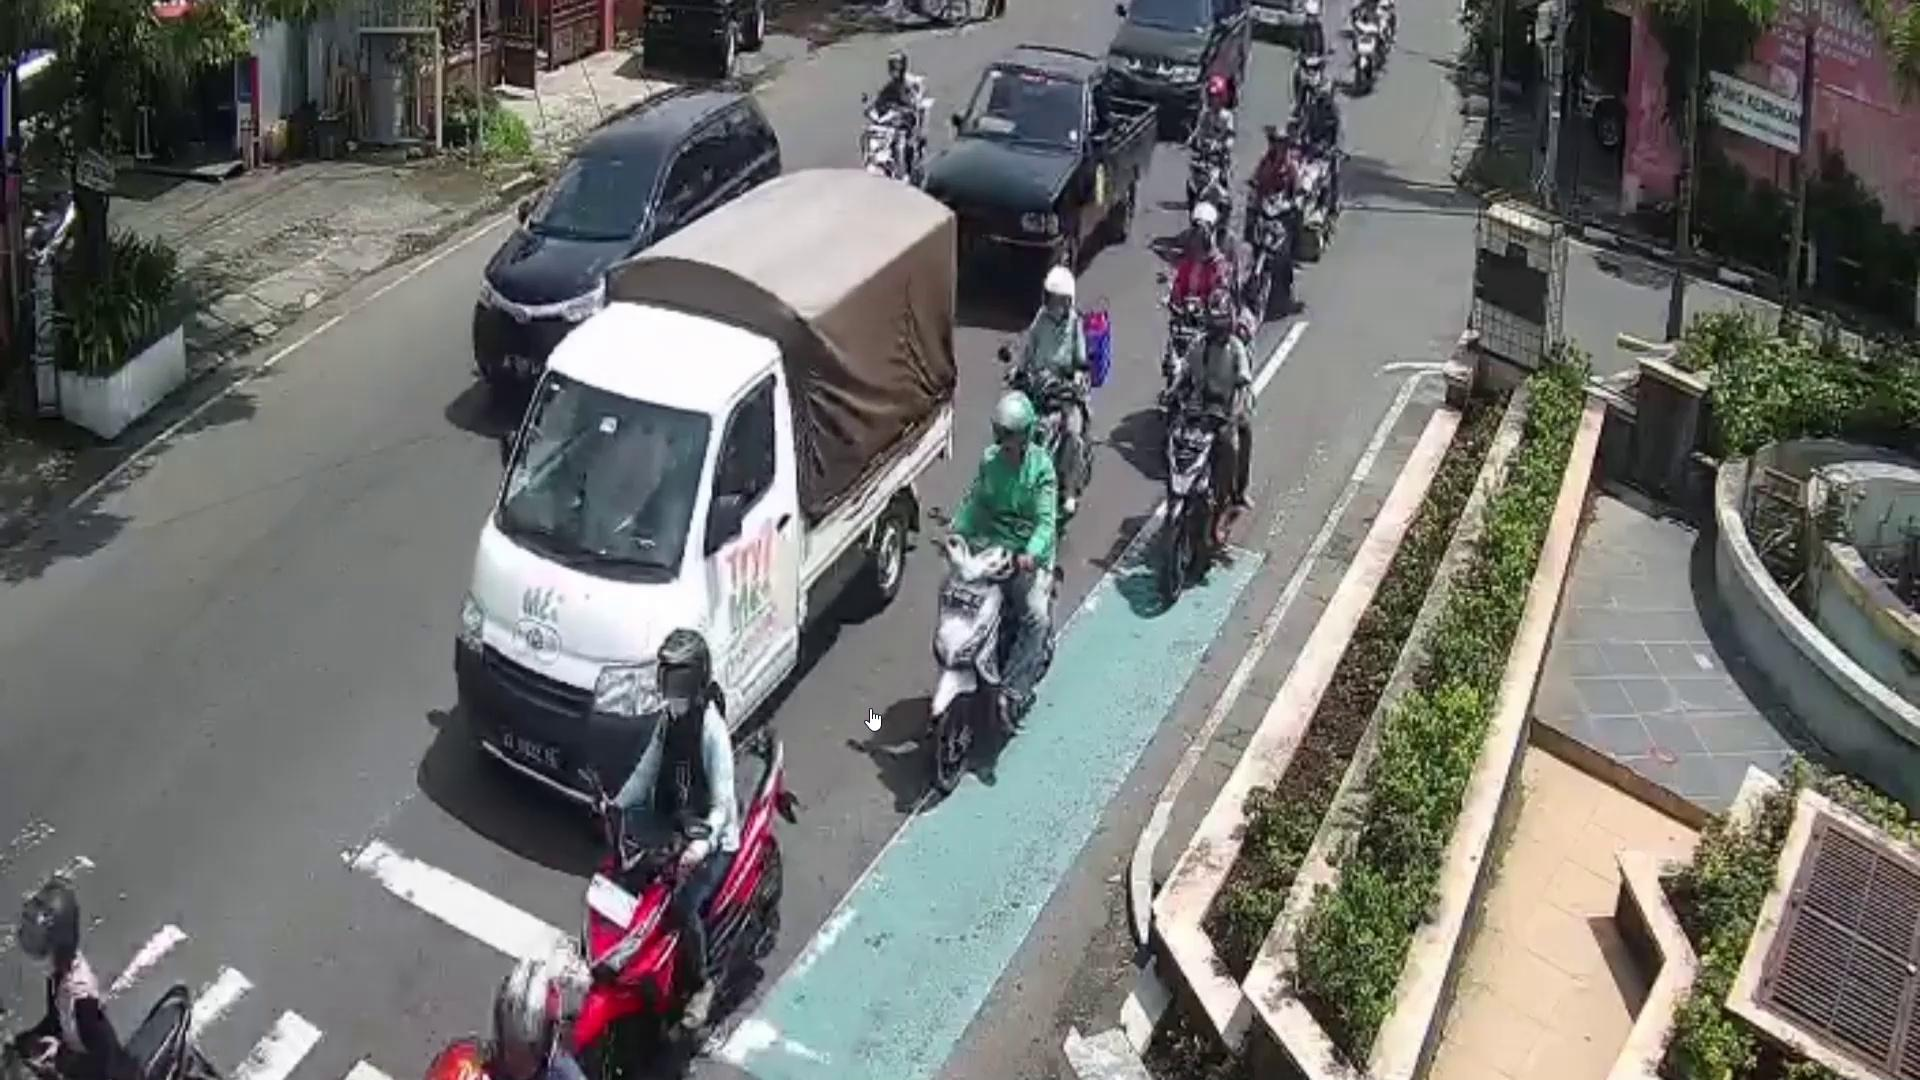car: (456, 299, 953, 812), (472, 84, 781, 396), (918, 46, 1159, 290), (1105, 0, 1253, 138)
motorbike: (570, 721, 795, 1080), (935, 538, 1064, 785), (1162, 409, 1230, 600), (1250, 189, 1290, 309)
